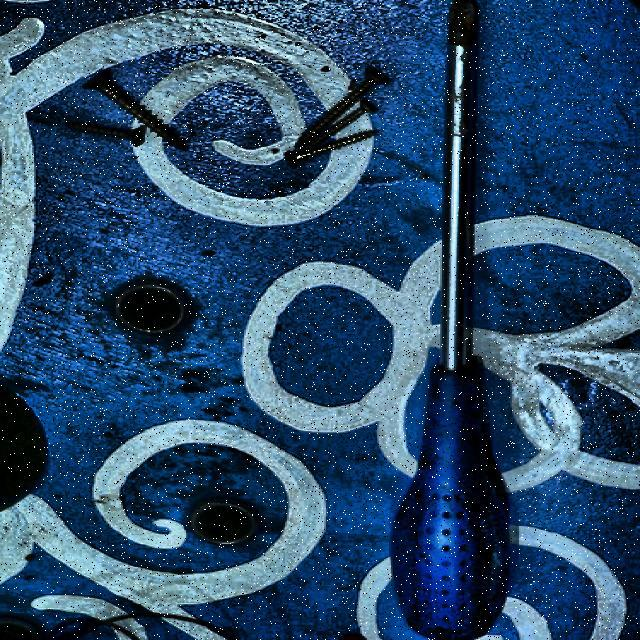screwdriver: (392, 0, 512, 640)
